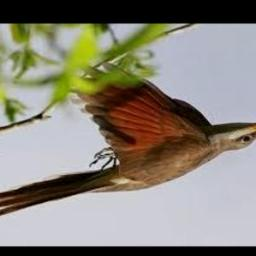Cuckoo: (0, 64, 256, 219)
